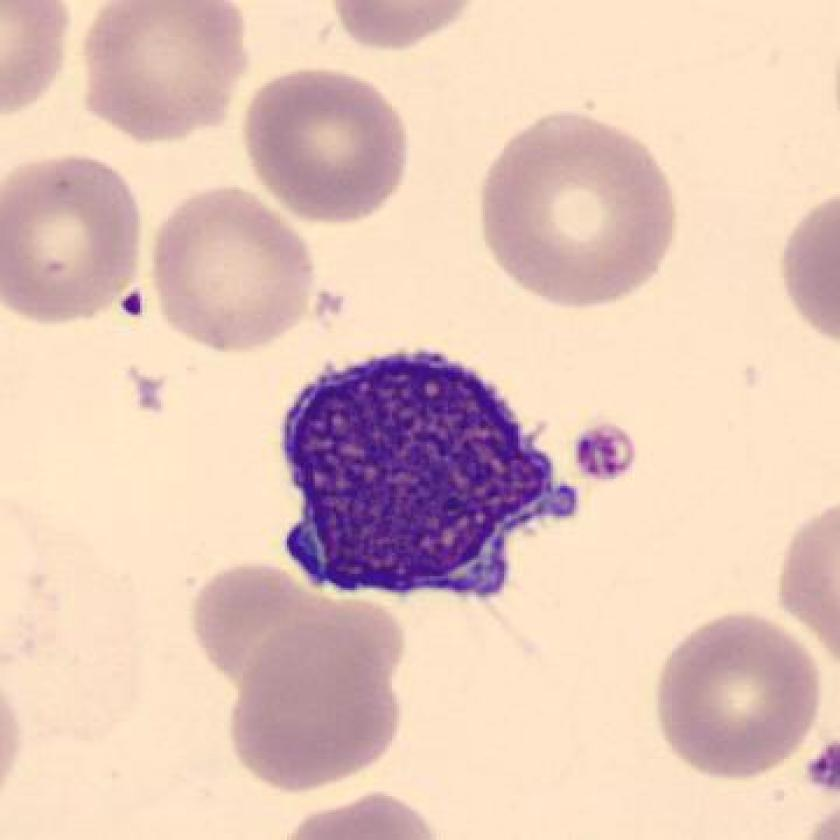lymphocyte: (265, 337, 589, 624)
